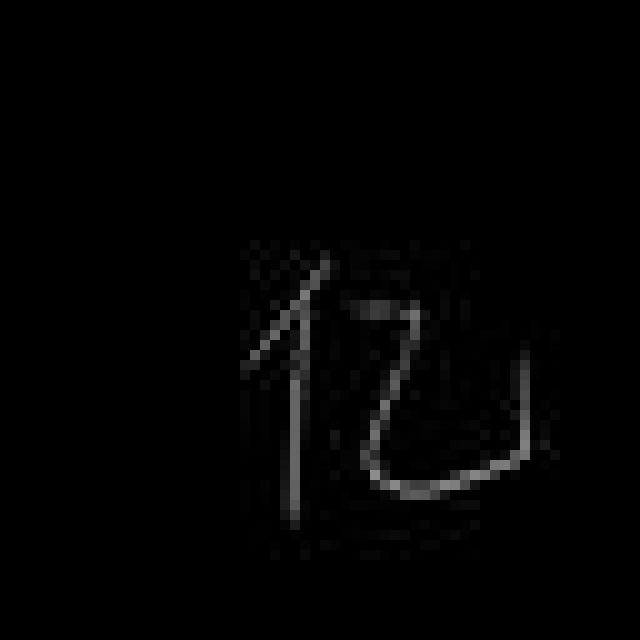100000 -a hundred thousand-: (239, 253, 542, 530)
